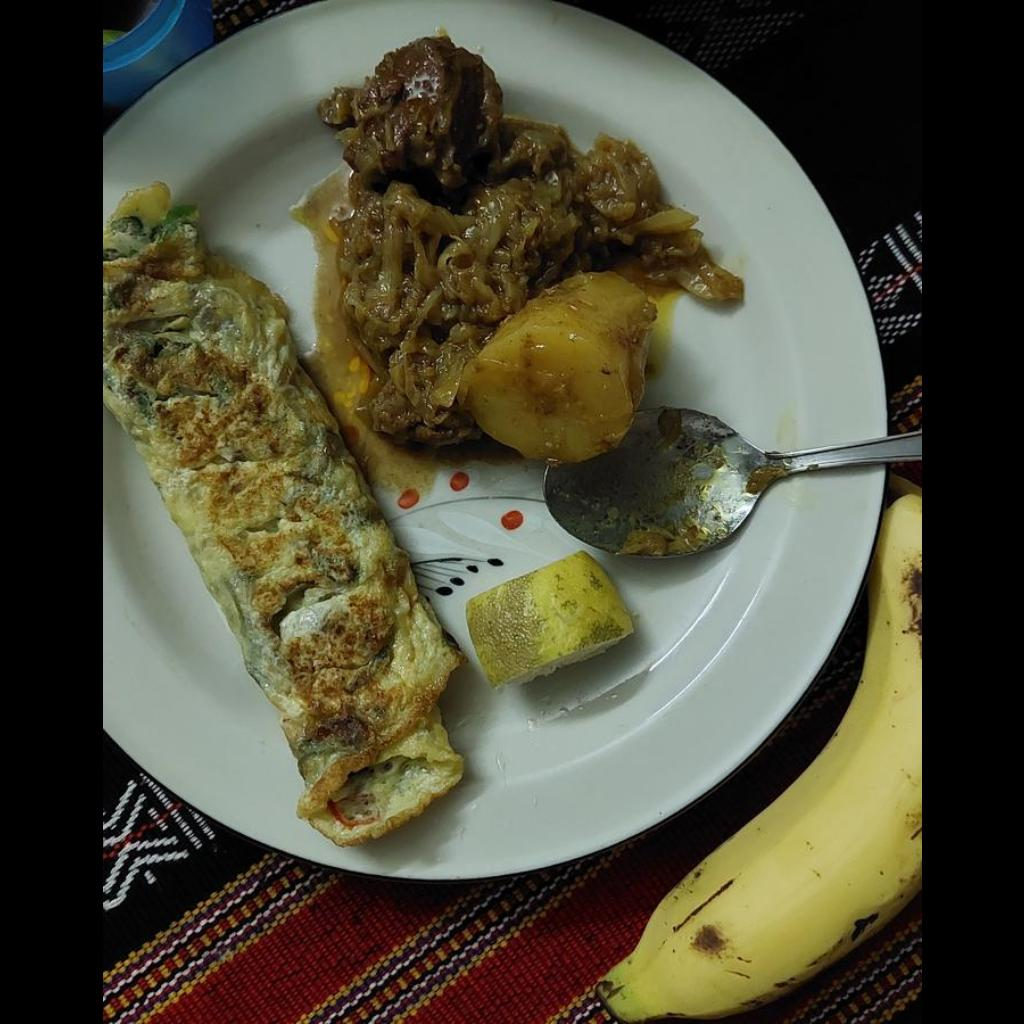banana: (586, 495, 920, 1020)
beef: (320, 38, 739, 445), (319, 37, 499, 184)
egg-poached: (102, 185, 458, 832)
lemon: (466, 559, 641, 692)
potato: (464, 274, 658, 467)
